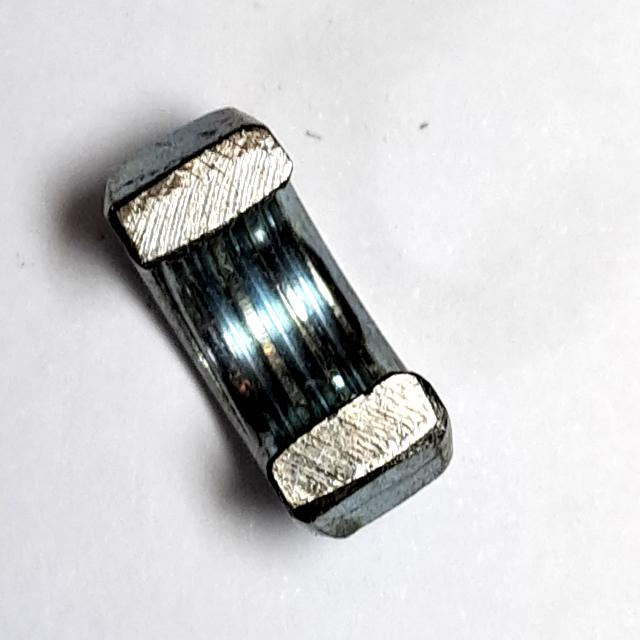Side-Fracture: (87, 94, 465, 548)
